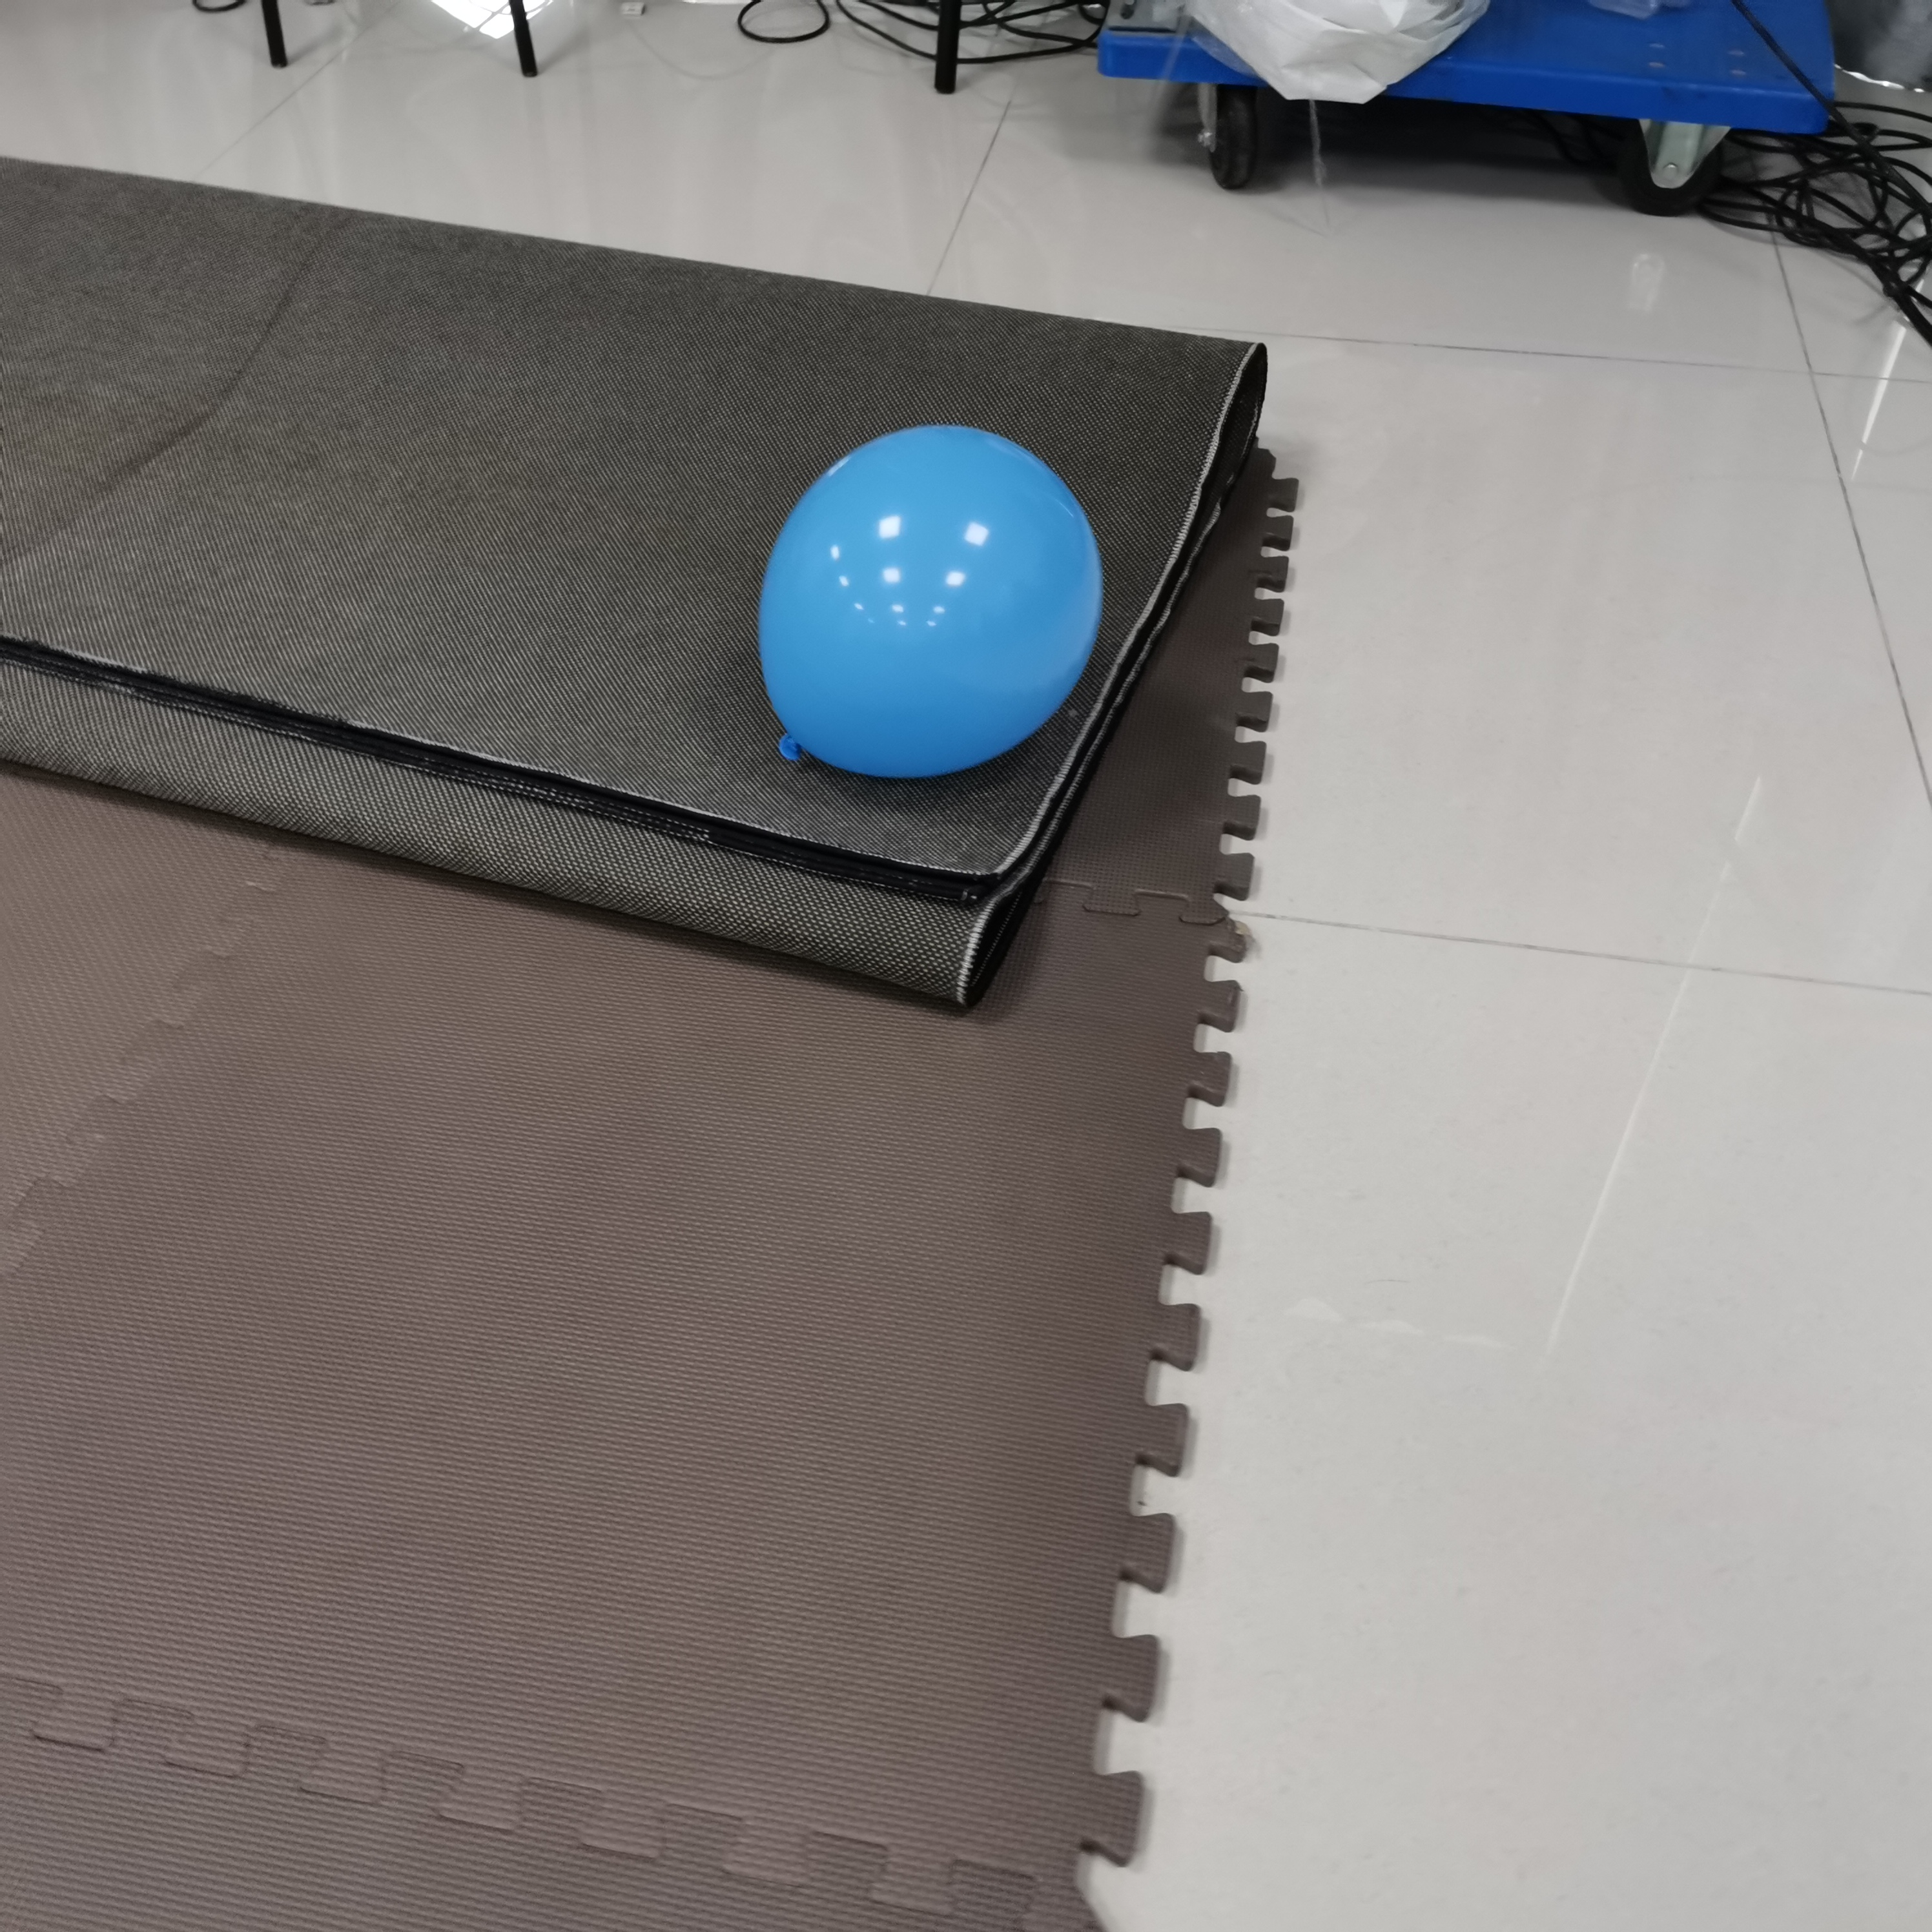balloon: (755, 423, 1100, 784)
